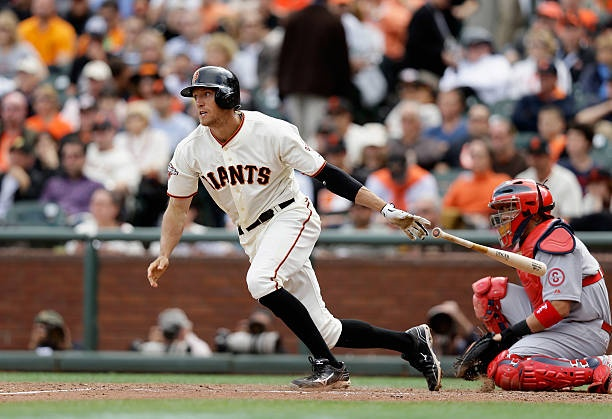bita: (430, 230, 549, 278)
